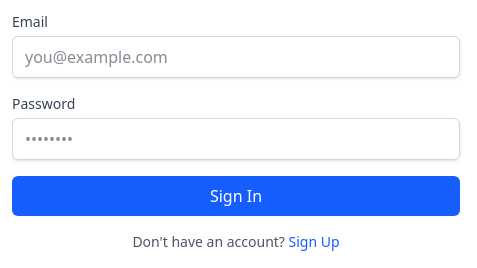
it: LoginForm › disables submit button while submitting
The image size is (477, 268).
Type "user@example.com" into the field labelled "Email" at (236, 57), box left=12, top=36, right=460, bottom=78
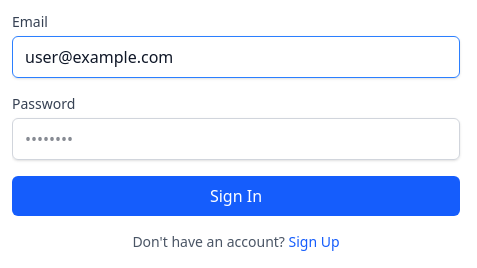
Type "TestPassword123" into the password field labelled "Password" at (236, 139), box left=12, top=118, right=460, bottom=160
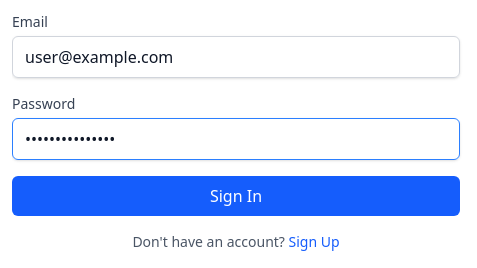
Click the button "Sign In" at (236, 196), box left=12, top=176, right=460, bottom=216
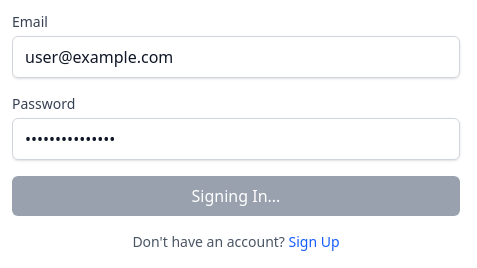
Now the button named "Sign In" is disabled, box left=12, top=176, right=460, bottom=216
Now the button named "Sign In" shows "Signing In", box left=12, top=176, right=460, bottom=216
